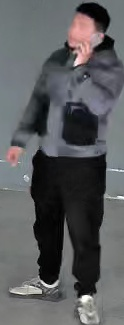phone: (62, 0, 123, 123)
